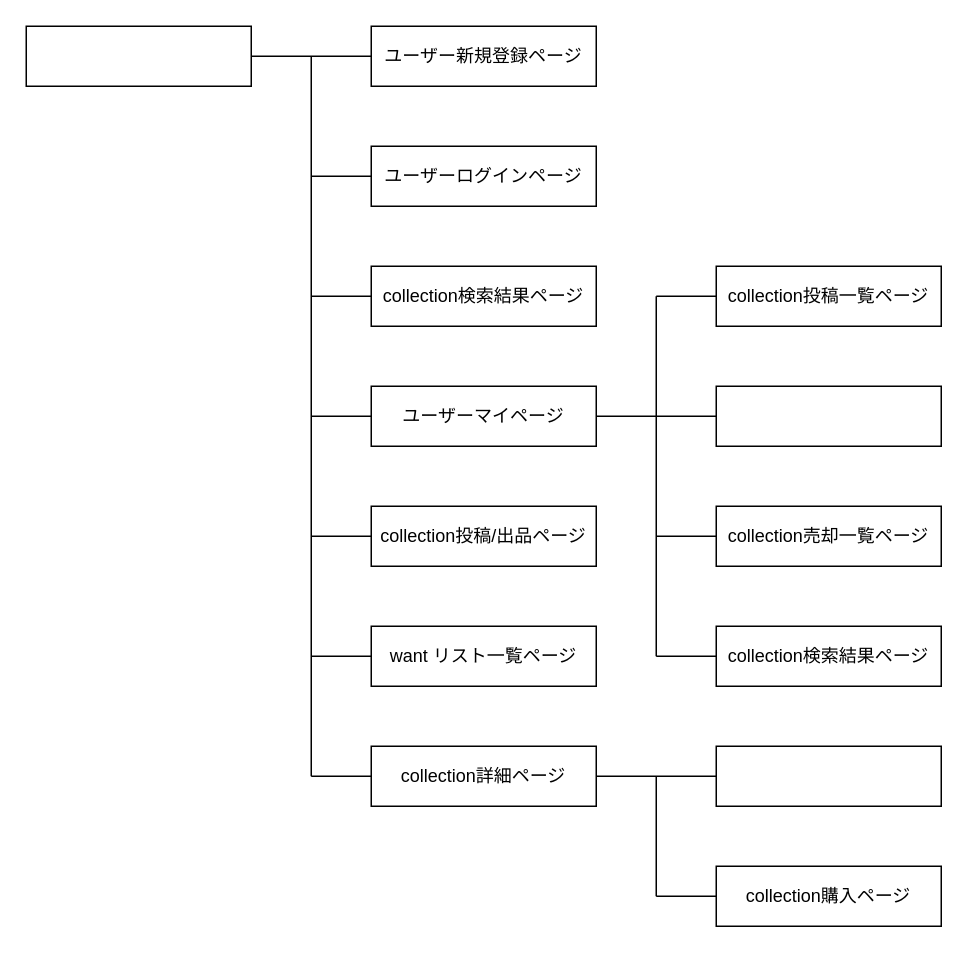
The diagram is 968 pixels wide and 953 high, and some of its shapes have lost their labels. The shapes that lost their labels are listed below. From the top down, each one's centre as x and y in pixels, then its label:
At (138,55): "一覧ページ".
At (828,415): "collection出品一覧ページ".
At (828,775): "collection編集/出品ページ".
